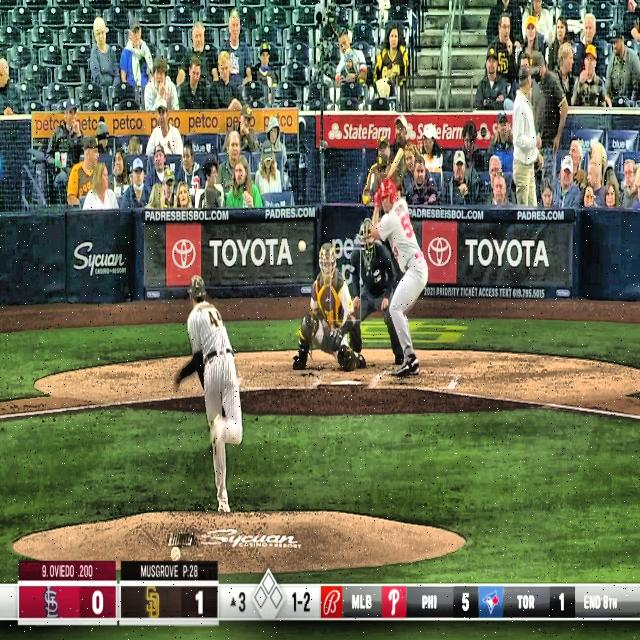baseball: (298, 239, 306, 254)
